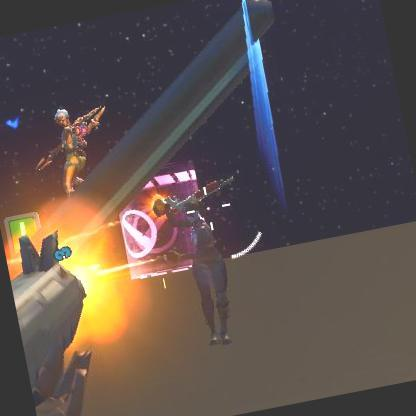person: (181, 222, 242, 349), (44, 102, 99, 199)
